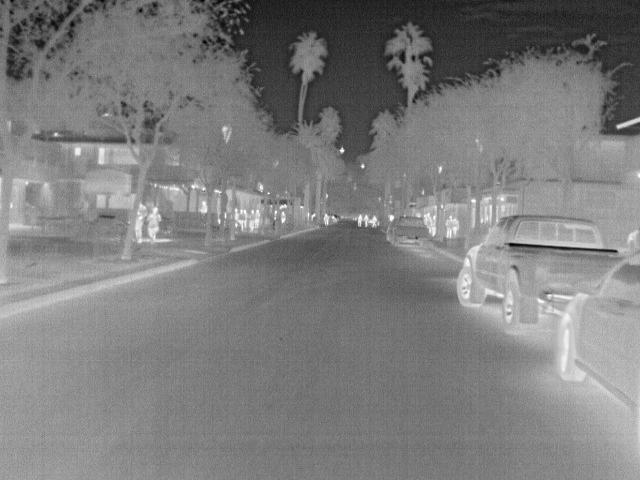car: (456, 214, 622, 336), (556, 254, 639, 455), (389, 216, 429, 248), (625, 227, 639, 254), (385, 217, 399, 243)
person: (145, 205, 162, 241), (133, 211, 145, 242), (443, 214, 456, 239), (244, 208, 256, 231), (253, 207, 262, 232), (428, 214, 437, 236), (196, 199, 210, 213), (237, 208, 245, 232), (367, 213, 379, 228), (426, 210, 433, 233), (356, 212, 364, 229), (362, 212, 371, 227), (322, 211, 330, 226), (278, 209, 286, 224)
